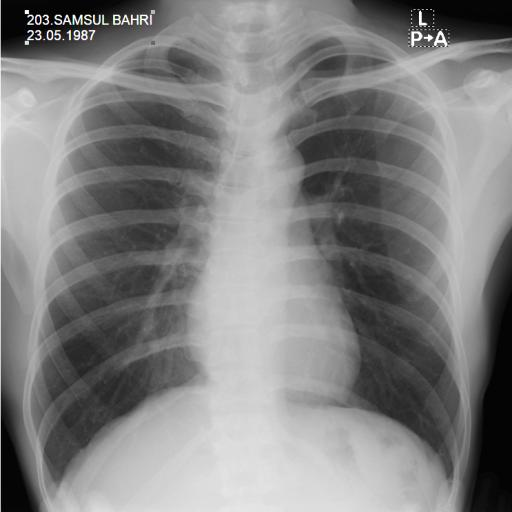normal: (20, 34, 480, 498)
